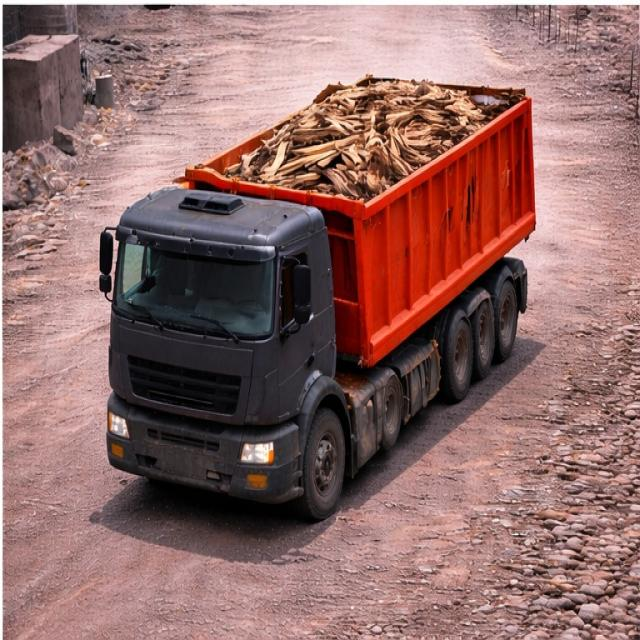Box: (187, 73, 534, 192)
Truck: (95, 61, 560, 510)
